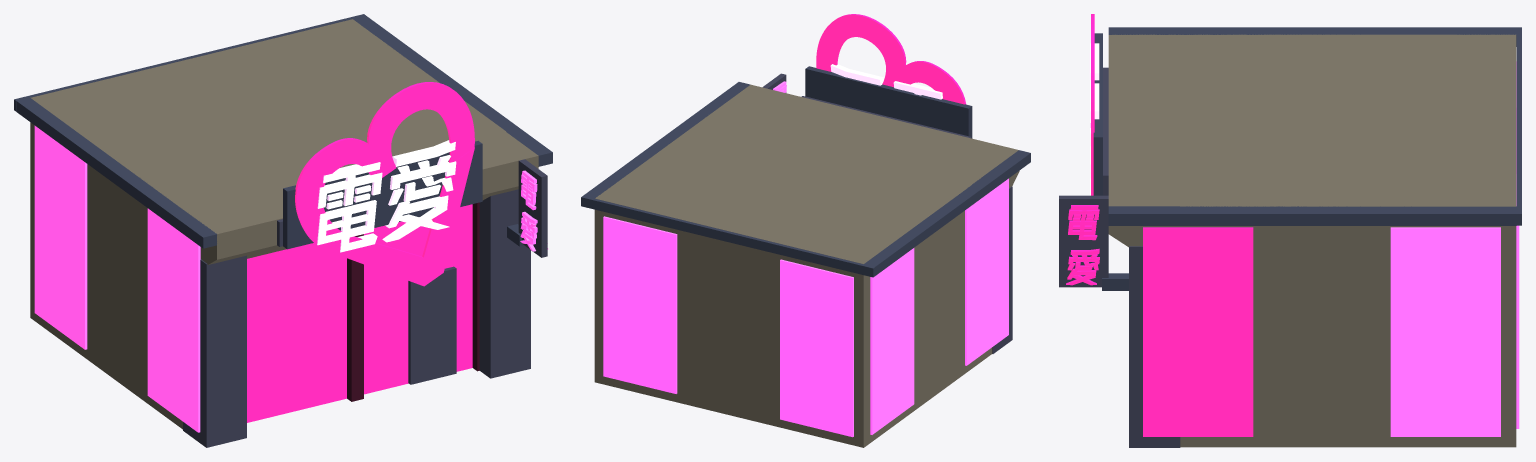
3 renders of one model, left to right at view 1: azimuth 30°, elevation 25°; view 2: azimuth 150°, elevation 25°; view 3: azimuth 270°, elevation 25°, orthographic. The views are drawn at different scales.
Parts seen in each view (by area): view 1: Cube.028, Cube.002, Text.003, Cube.017, Cube.016, Cube.007, Cube, Text.002, Cube.001, Cube.006, Cube.018, Cube.011 (+6 smaller); view 2: Cube.028, Cube.013, Cube.014, Cube.001, Cube.016, Cube.017, Cube.011, Text.003, Cube.020, Cube.018, Cube.019, Text.002 (+1 smaller); view 3: Cube.028, Cube.012, Cube.015, Cube.001, Cube.019, Cube.018, Cube, Cube.008, Text, Cube.020, Cube.011, Cube.013 (+4 smaller).
Part boxes in pixels (left/top/right/bottom): Cube.028: left=30, top=19, right=505, bottom=429; Cube.002: left=247, top=204, right=472, bottom=422; Text.003: left=295, top=82, right=474, bottom=286; Cube.017: left=147, top=208, right=200, bottom=432; Cube.016: left=34, top=125, right=87, bottom=349; Cube.007: left=183, top=255, right=246, bottom=447; Cube: left=479, top=189, right=530, bottom=378; Text.002: left=317, top=140, right=456, bottom=252; Cube.001: left=184, top=132, right=538, bottom=264; Cube.006: left=408, top=266, right=456, bottom=384; Cube.018: left=16, top=98, right=216, bottom=248; Cube.011: left=283, top=140, right=482, bottom=249; Cube.028: left=594, top=104, right=992, bottom=447; Cube.013: left=603, top=216, right=677, bottom=393; Cube.014: left=780, top=259, right=853, bottom=437; Cube.001: left=724, top=84, right=1019, bottom=187; Cube.016: left=870, top=248, right=914, bottom=434; Cube.017: left=965, top=178, right=1008, bottom=365; Cube.011: left=805, top=66, right=972, bottom=138; Text.003: left=816, top=14, right=966, bottom=104; Cube.020: left=581, top=196, right=875, bottom=277; Cube.018: left=864, top=150, right=1030, bottom=275; Cube.019: left=583, top=82, right=750, bottom=198; Text.002: left=830, top=64, right=942, bottom=99; Cube.028: left=1180, top=34, right=1516, bottom=447; Cube.012: left=1143, top=227, right=1253, bottom=436; Cube.015: left=1390, top=227, right=1500, bottom=436; Cube.001: left=1108, top=34, right=1180, bottom=247; Cube.019: left=1108, top=206, right=1516, bottom=225; Cube.018: left=1108, top=27, right=1516, bottom=46; Cube: left=1129, top=246, right=1180, bottom=447; Cube.008: left=1059, top=195, right=1108, bottom=287; Text: left=1066, top=205, right=1099, bottom=285; Cube.020: left=1516, top=27, right=1521, bottom=225; Cube.011: left=1093, top=33, right=1102, bottom=195; Cube.013: left=1516, top=174, right=1519, bottom=428.
Bounding box in the file's own units: 13.47 × 12.09 × 14.12.
